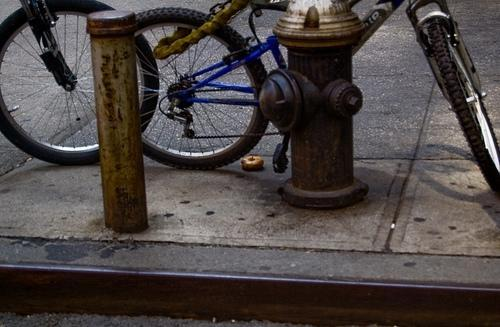bicycle: (134, 1, 500, 195), (0, 1, 115, 165)
